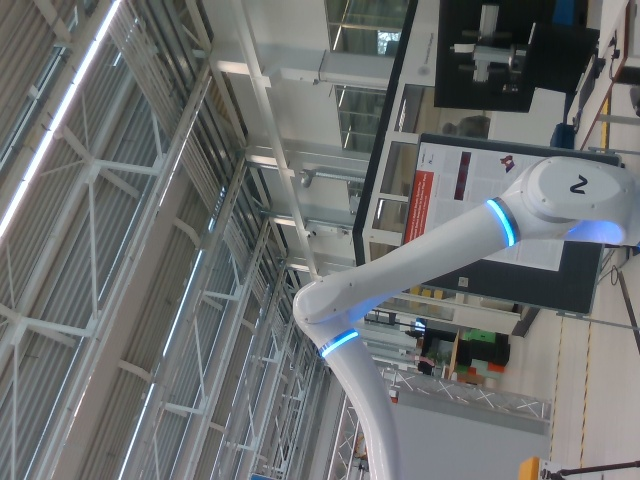Robot arm: (293, 157, 639, 480)
